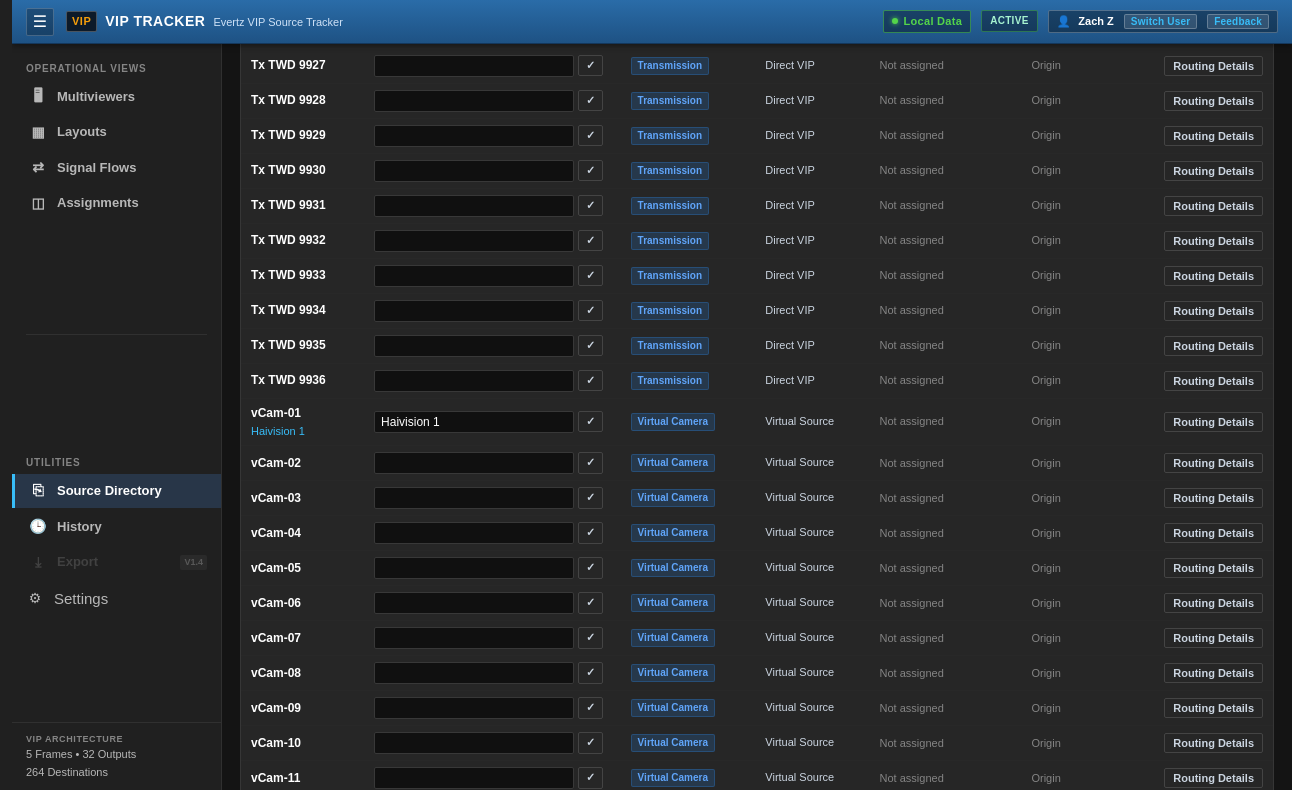
Test case: Source Aliases Feature › TEST 10: Clearing an existing Alias and clicking check mark saves and removes Alias everywhere
The width and height of the screenshot is (1292, 790).
(page scrolled)
Expected: the text with test id "source-alias-label-SRC:VCAM-01" reads "Haivision 1", [251,424,305,436]
# Clear the Alias input and click check mark
Clear the field with test id "source-alias-input-SRC:VCAM-01" at x=474, y=422, box [374,411,574,433]
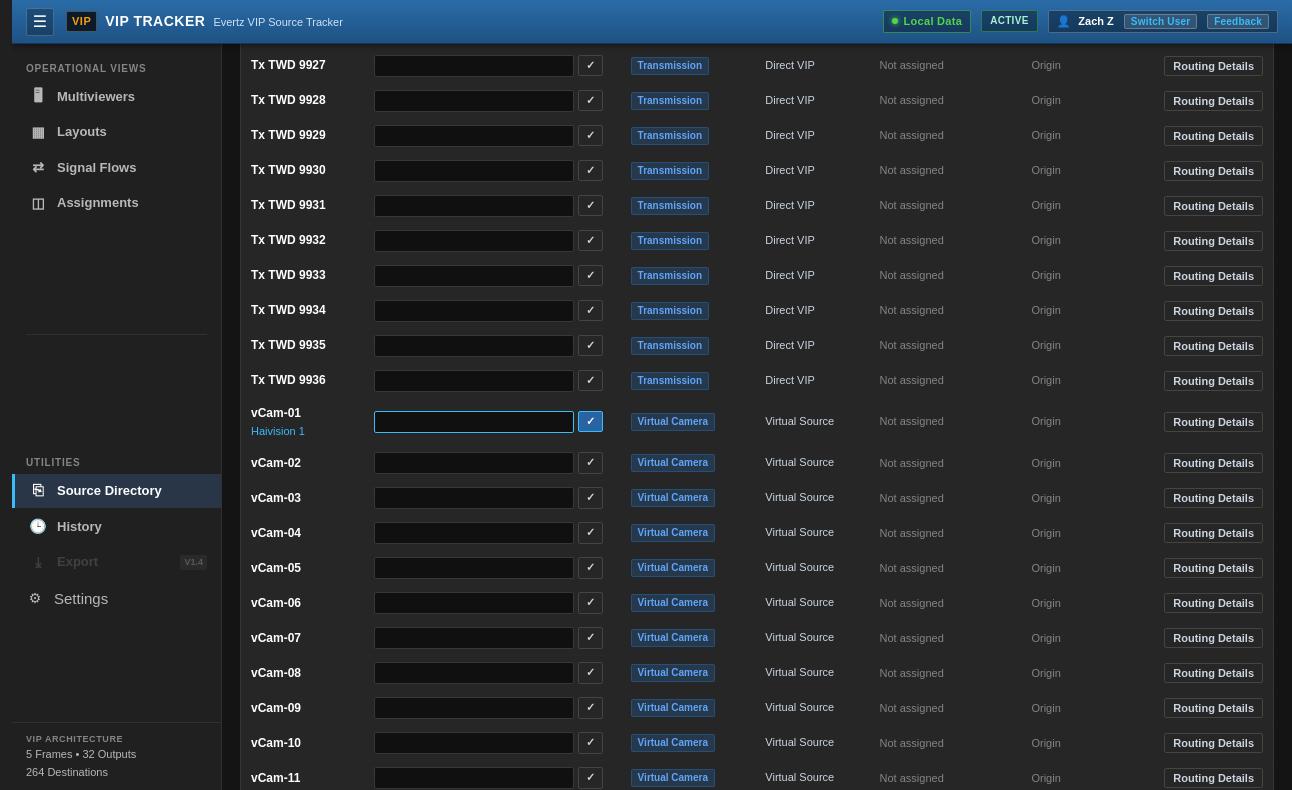
Click the button with test id "save-source-alias-btn-SRC:VCAM-01".
click(591, 422)  # box [578,411,603,432]
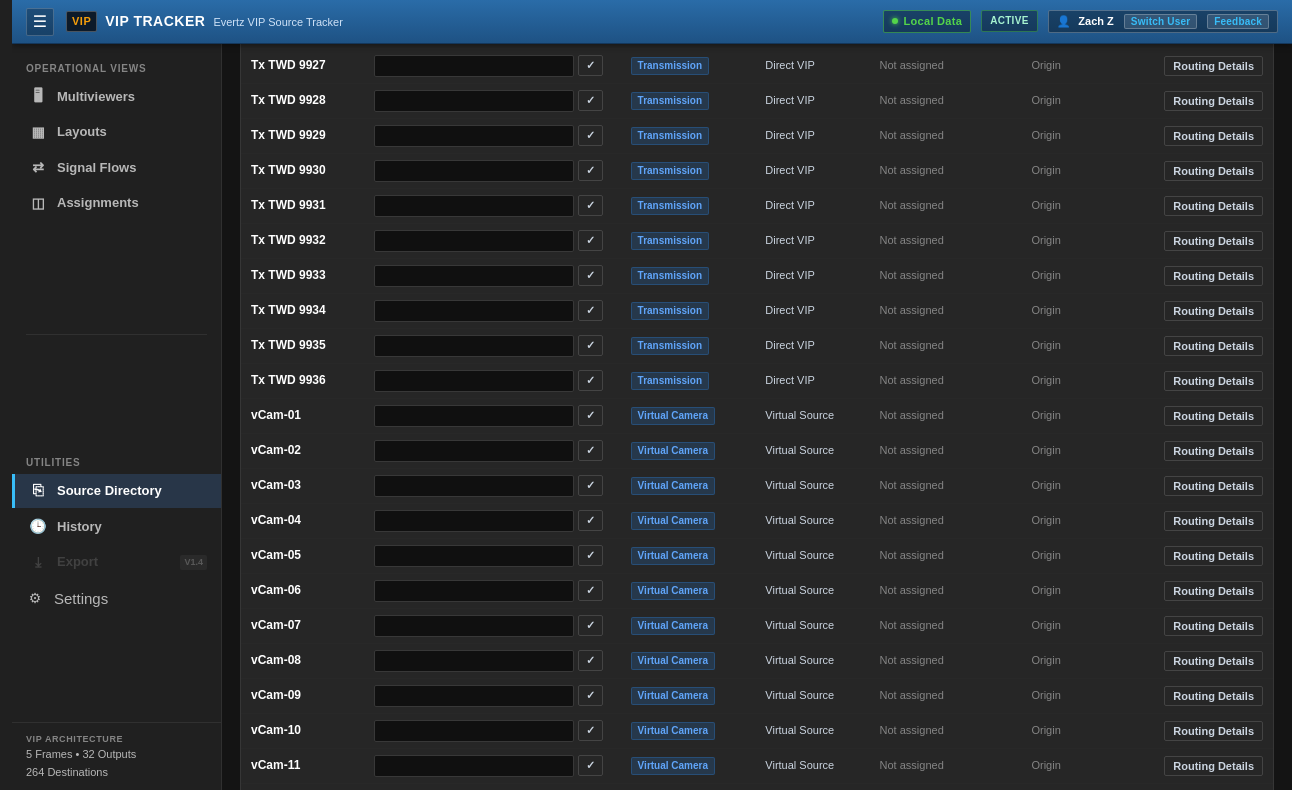
Expected: the text "vCam-01" is shown, [251,408,301,422]
Expected: the text "Haivision 1" is gone
